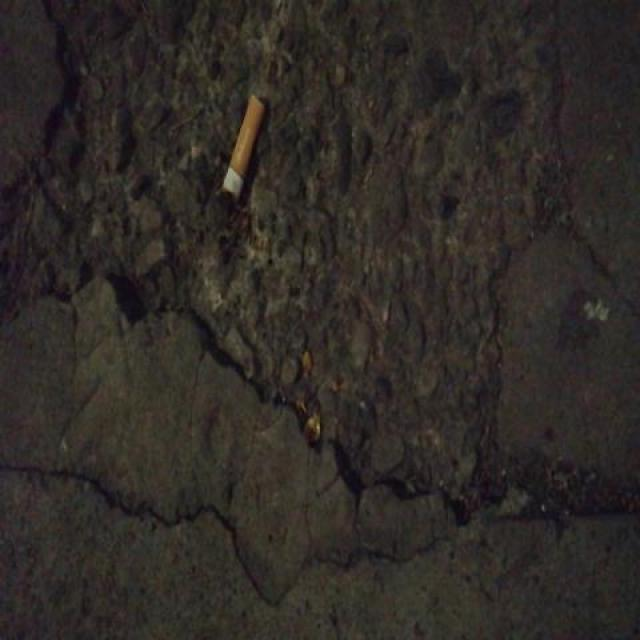non-organic waste: (218, 88, 270, 205)
